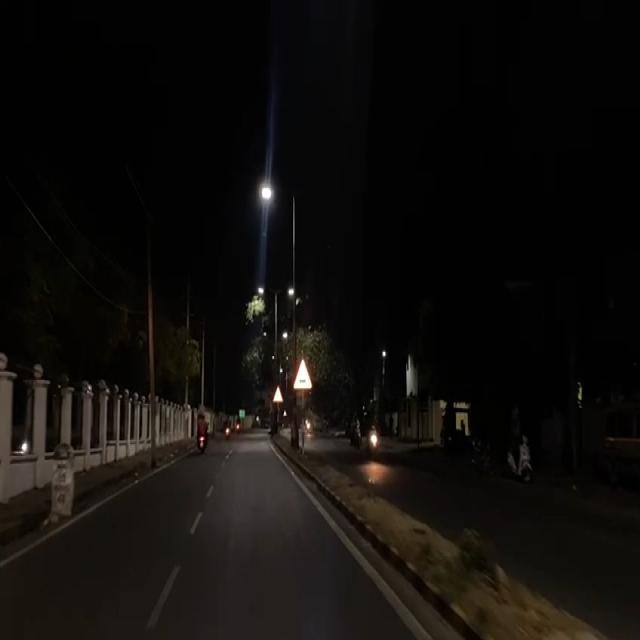bien_nguy_hiem: (291, 353, 314, 392)
